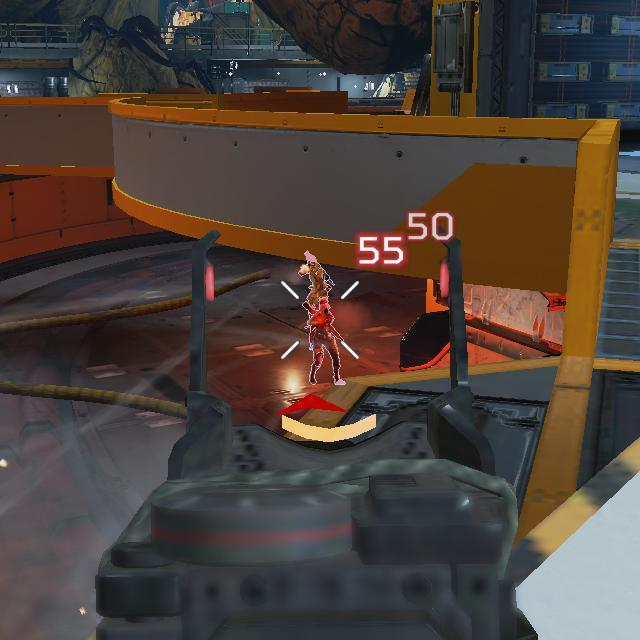avatar: (306, 296, 342, 387)
